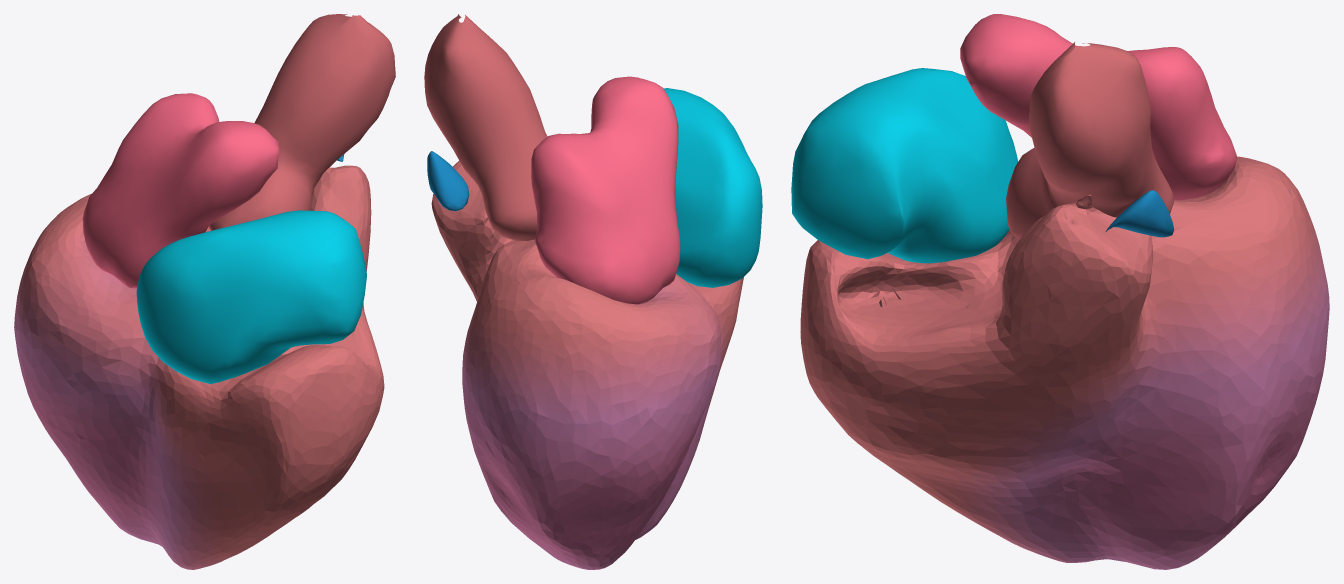
The model's file is frame_20.glb.
3 views of the same model, side by side, from view 1: azimuth 30°, elevation 25°; view 2: azimuth 150°, elevation 25°; view 3: azimuth 270°, elevation 25° (orthographic). The views are drawn at different scales.
Parts seen in each view (by area): view 1: Renderer Node; view 2: Renderer Node; view 3: Renderer Node.
Boxes of the visible parts, box(x1,y1,x2,y2) form: Renderer Node: box(14, 14, 395, 569); Renderer Node: box(424, 14, 762, 569); Renderer Node: box(791, 14, 1329, 569).
Bounding box in the file's own units: 101 × 154 × 121.
